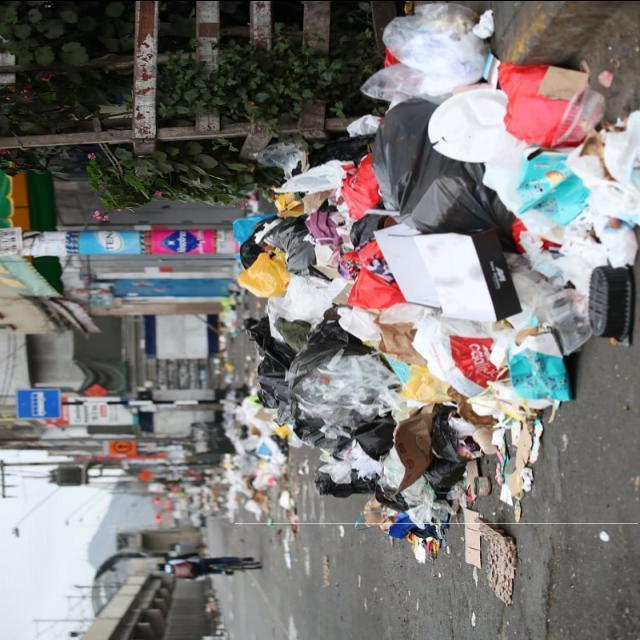Trashbag: (372, 98, 516, 242), (290, 314, 394, 462), (238, 211, 320, 279), (242, 344, 299, 420), (315, 453, 382, 501)
